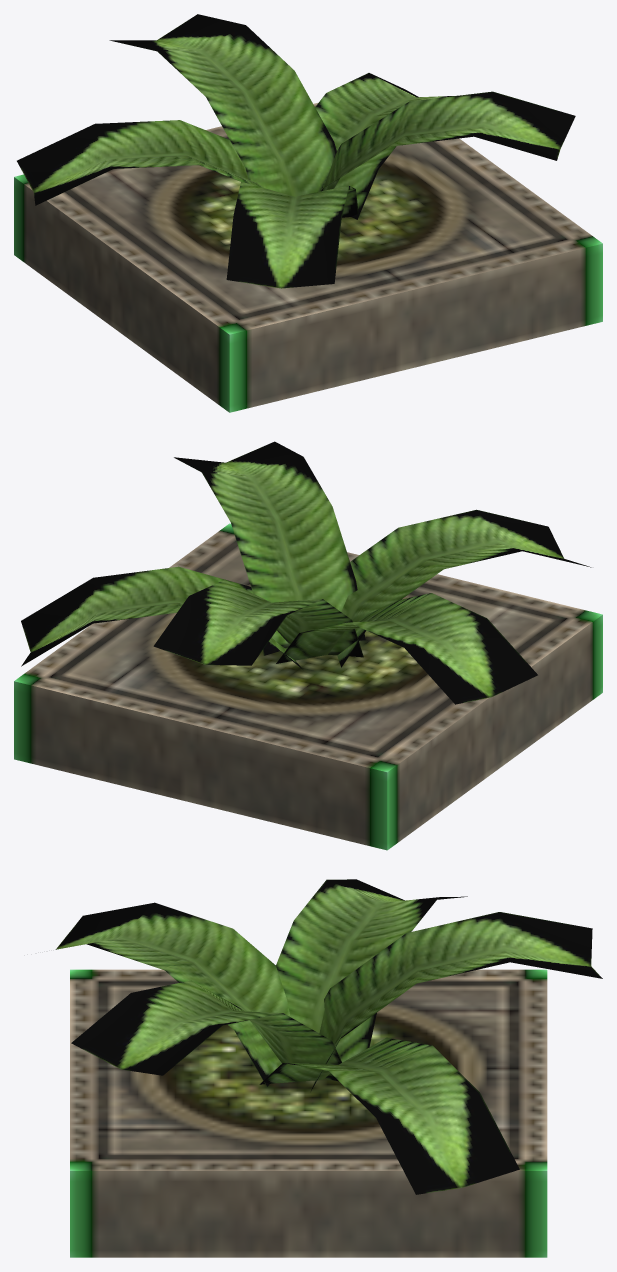
The model's file is tree02.glb.
3 views of the same model, one above another, from view 1: azimuth 30°, elevation 25°; view 2: azimuth 150°, elevation 25°; view 3: azimuth 270°, elevation 25° (orthographic). The views are drawn at different scales.
Parts seen in each view (by area): view 1: tree02; view 2: tree02; view 3: tree02.
Part boxes in pixels (x1=…): tree02: x1=14, y1=14, x2=602, y2=412; tree02: x1=14, y1=441, x2=602, y2=850; tree02: x1=55, y1=879, x2=602, y2=1257.
Bounding box in the file's own units: 6.57 × 2.43 × 6.17.
1 material, 1 textured.
